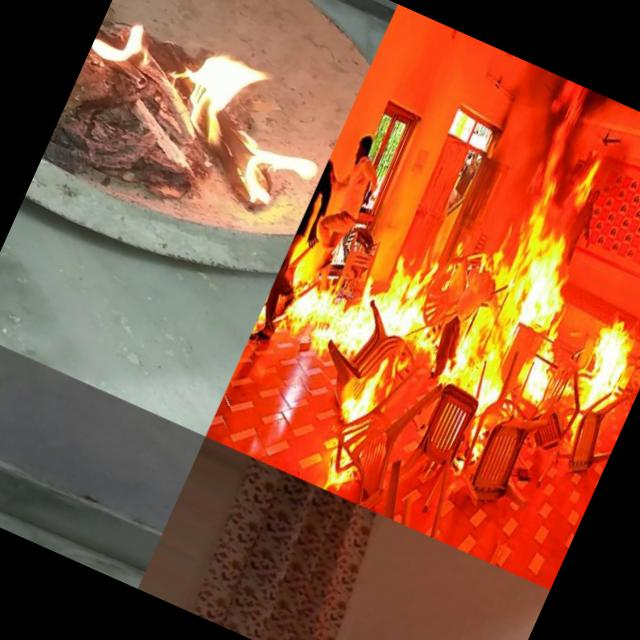fire: (132, 28, 342, 226), (466, 196, 600, 354), (401, 309, 524, 426), (275, 254, 387, 372), (368, 240, 451, 350), (567, 298, 640, 417), (332, 341, 409, 445), (84, 0, 170, 88), (514, 310, 584, 415), (566, 147, 613, 215), (314, 444, 362, 498)
smoke: (504, 62, 640, 169)
